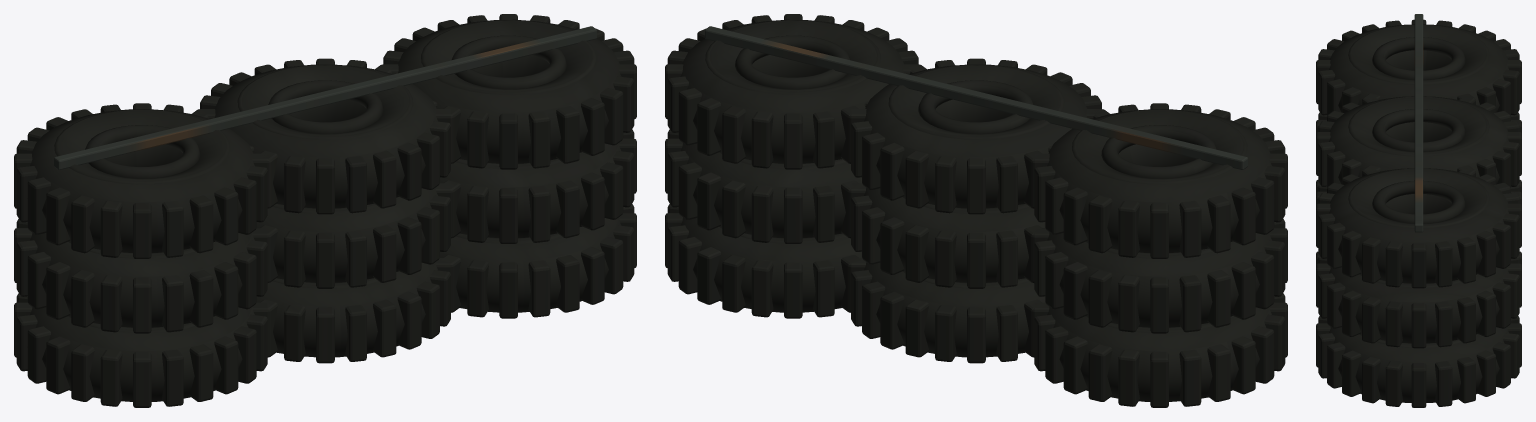
The model's file is tyre-barrier.obj.
3 views of the same model, side by side, from view 1: azimuth 30°, elevation 25°; view 2: azimuth 150°, elevation 25°; view 3: azimuth 270°, elevation 25° (orthographic). The views are drawn at different scales.
Parts seen in each view (by area): view 1: tyre-barrier; view 2: tyre-barrier; view 3: tyre-barrier.
Part boxes in pixels (bbox=[...]): tyre-barrier: bbox=[14, 14, 636, 407]; tyre-barrier: bbox=[665, 14, 1287, 407]; tyre-barrier: bbox=[1316, 14, 1521, 407].
Bounding box in the file's own units: 2.73 × 1.01 × 1.03.
Materials: 1 (1 with a texture image).
